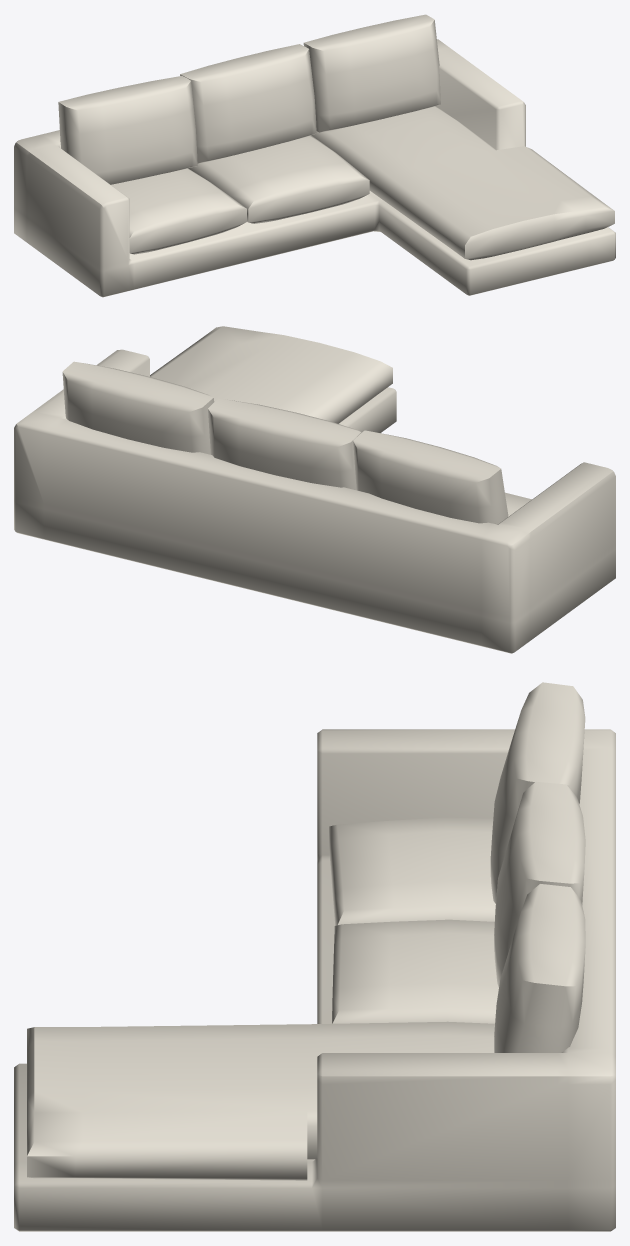
The model's file is pk_sect_creamleather.glb.
3 views of the same model, one above another, from view 1: azimuth 30°, elevation 25°; view 2: azimuth 150°, elevation 25°; view 3: azimuth 270°, elevation 25° (orthographic). The views are drawn at different scales.
Visible parts, largest first — view 1: pk_sect_creamleather; view 2: pk_sect_creamleather; view 3: pk_sect_creamleather.
Boxes of the visible parts, x1=… form: pk_sect_creamleather: x1=14, y1=14, x2=615, y2=297; pk_sect_creamleather: x1=14, y1=326, x2=615, y2=653; pk_sect_creamleather: x1=14, y1=682, x2=615, y2=1231.
Bounding box in the file's own units: 2.9 × 0.88 × 2.1.
1 material, 1 textured.
